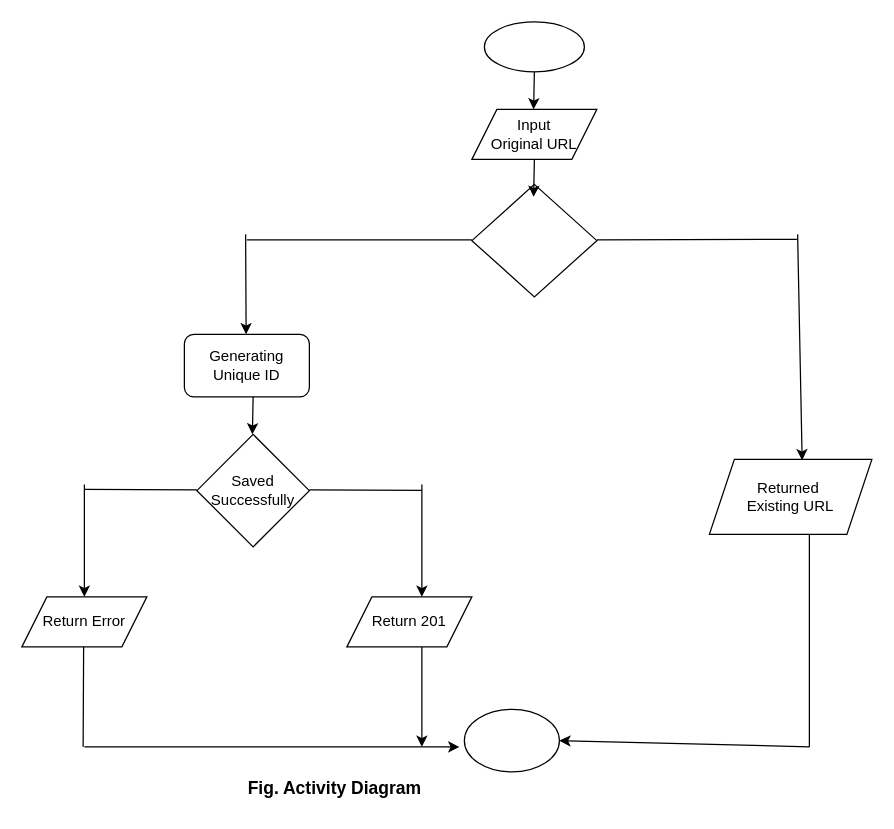
The diagram is 894 pixels wide and 829 high, and some of its shapes have lost their labels. The shapes that lost their labels are listed below. From the top down, each one's centre as x and y in pixels, then its label:
At point 533,46: "Start".
At point 534,240: "URL already exist".
At point 511,740: "End".
